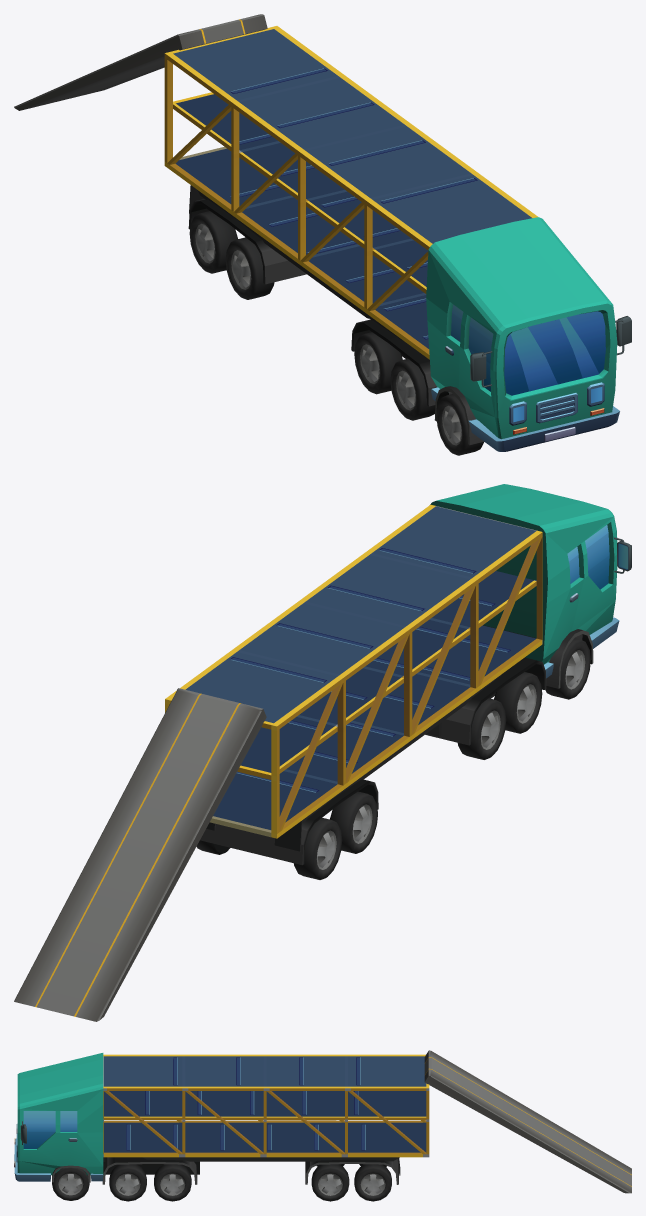
Rendered from Troller_new.fbx.
3 views of the same model, one above another, from view 1: azimuth 30°, elevation 25°; view 2: azimuth 150°, elevation 25°; view 3: azimuth 270°, elevation 25° (orthographic). The views are drawn at different scales.
Visible parts, largest first — view 1: Troller_new1; view 2: Troller_new1; view 3: Troller_new1.
Boxes of the visible parts, left/top/right/bottom form: Troller_new1: left=14, top=14, right=631, bottom=455; Troller_new1: left=14, top=484, right=631, bottom=1021; Troller_new1: left=14, top=1050, right=631, bottom=1201.
Size of the model in its own units: 107 by 127 by 586.
1 material, 1 textured.
